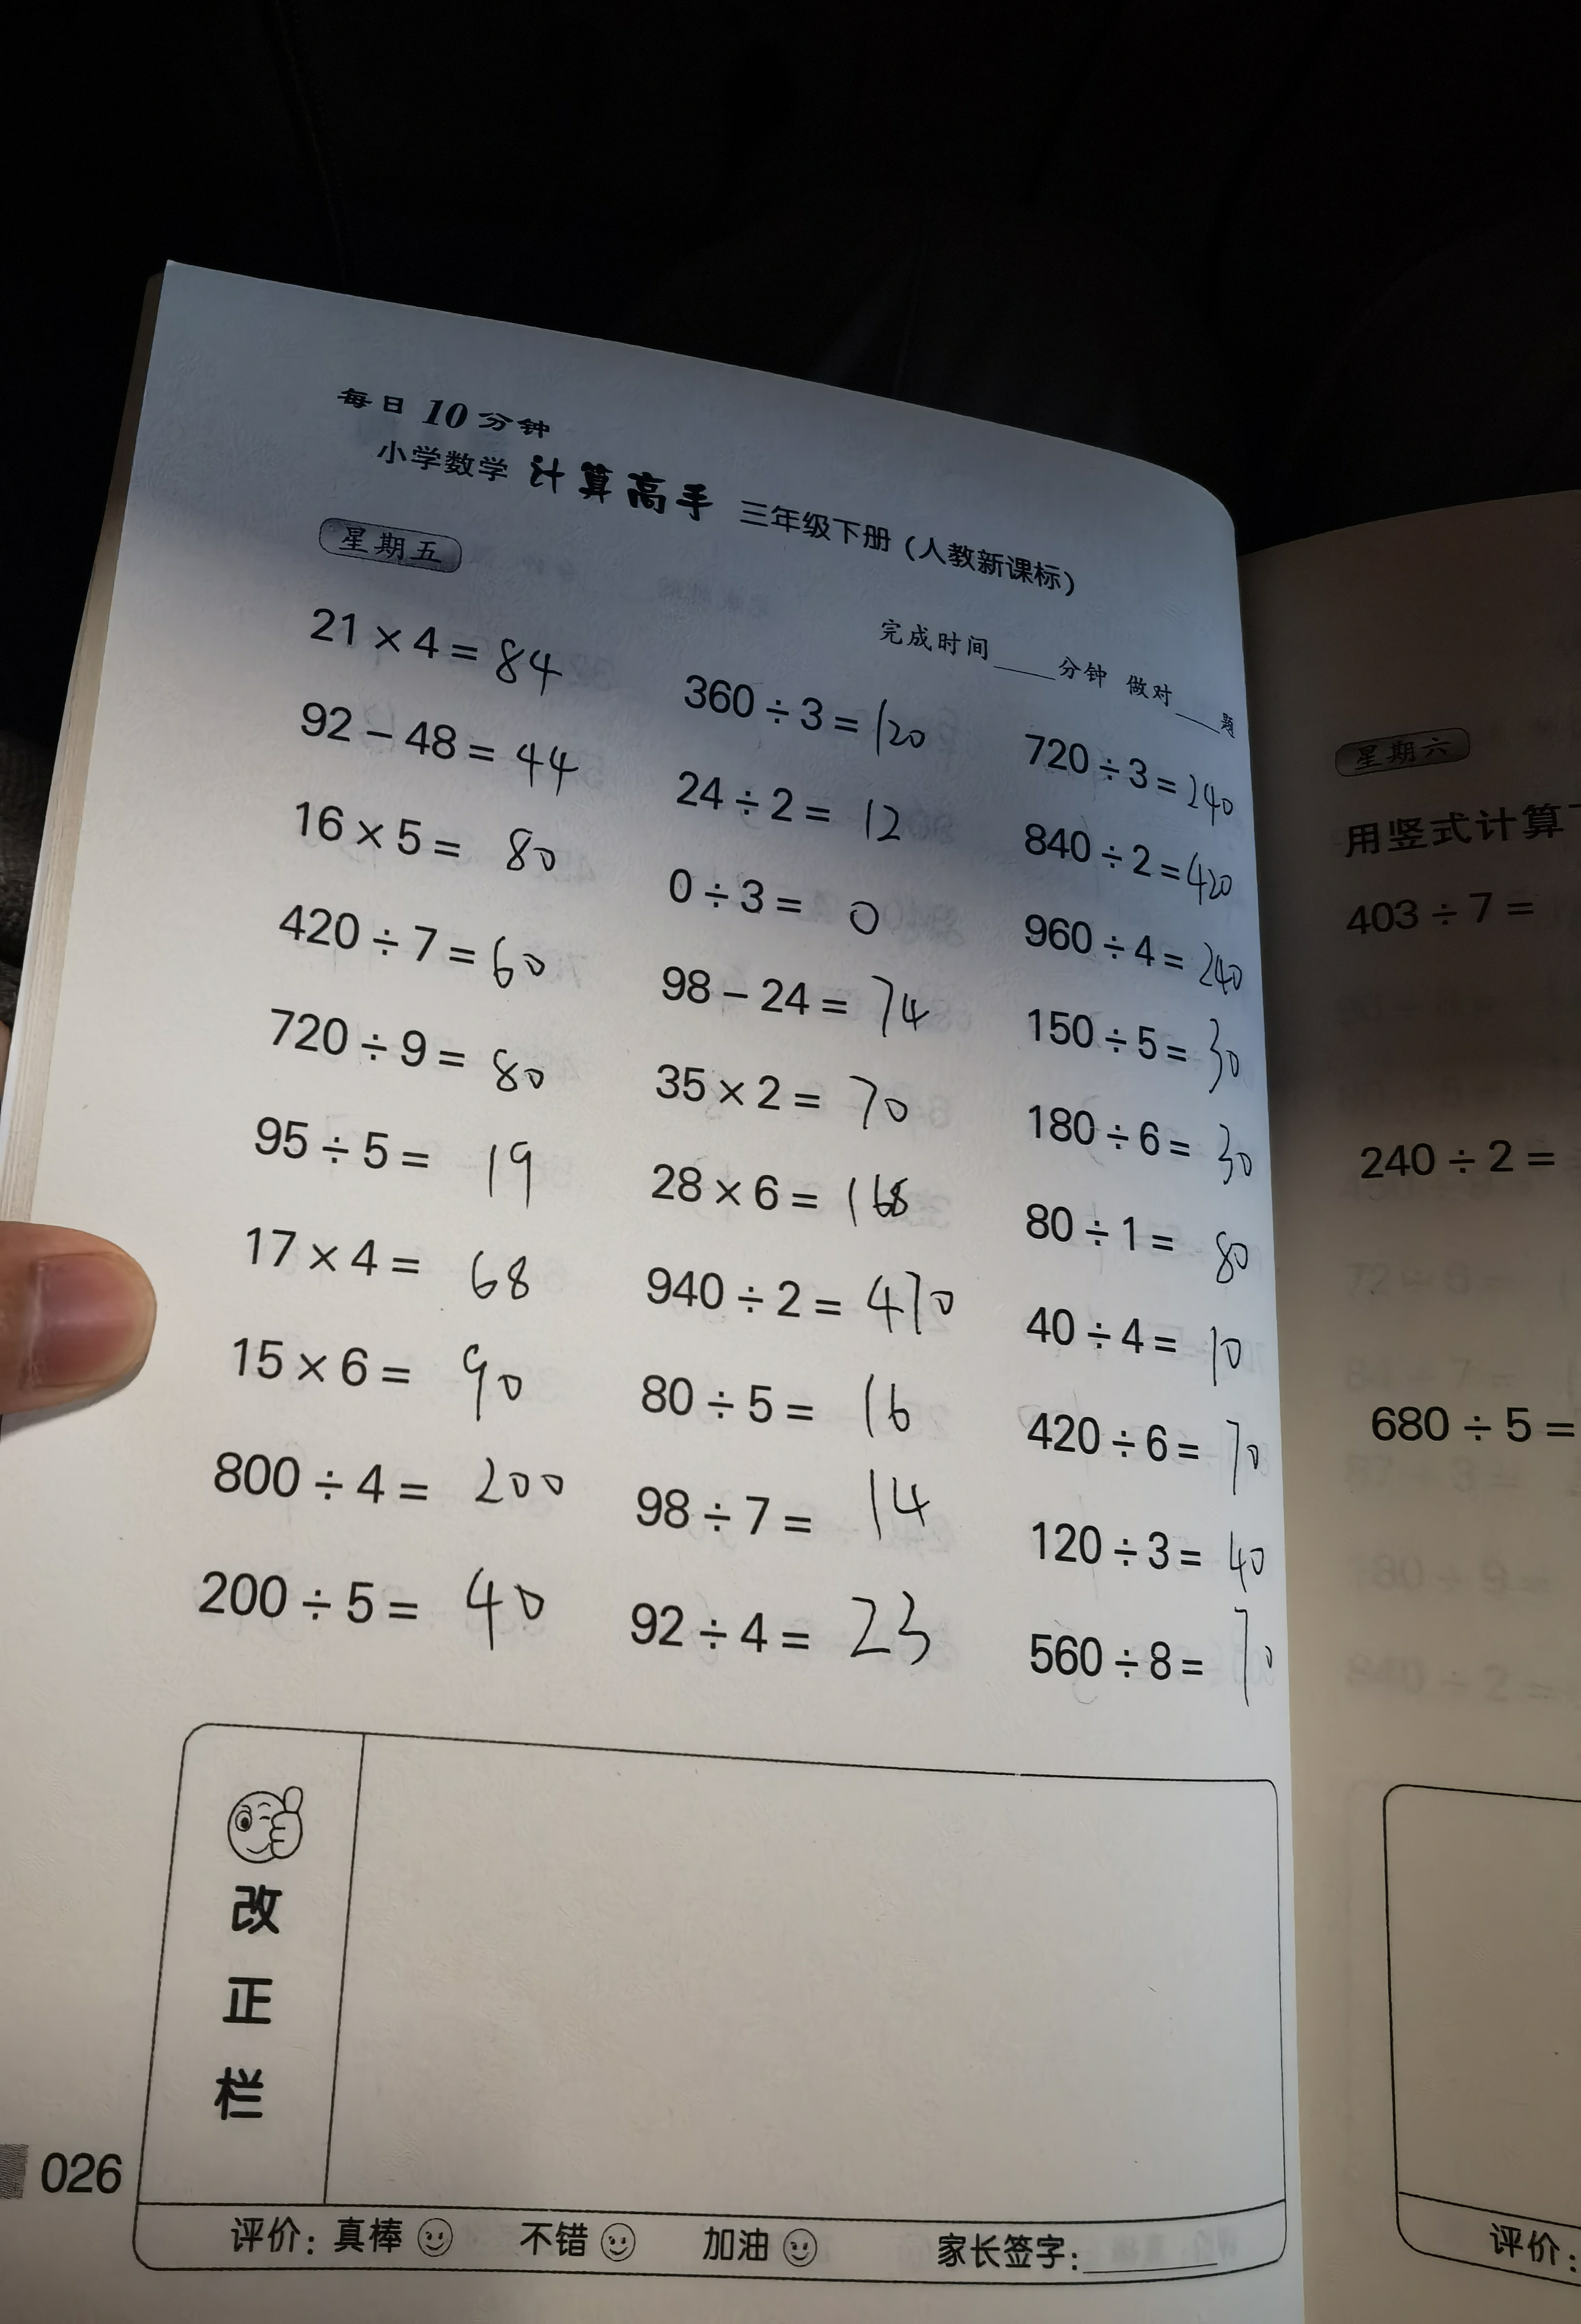equation: (605, 1574, 958, 1692), (164, 1556, 577, 1657), (185, 1442, 579, 1539), (298, 570, 573, 706), (621, 1458, 955, 1560), (268, 999, 558, 1115), (296, 693, 598, 805), (626, 1345, 958, 1445), (261, 1105, 558, 1216), (229, 1212, 551, 1313), (628, 1255, 983, 1345), (270, 787, 561, 895), (1006, 1505, 1295, 1609), (1004, 1606, 1288, 1710), (222, 1329, 531, 1422), (990, 1406, 1295, 1500), (642, 956, 946, 1043), (268, 898, 556, 988), (1002, 1193, 1269, 1290), (1006, 1295, 1263, 1394), (674, 764, 935, 861), (688, 665, 933, 764), (1008, 1098, 1265, 1188), (1025, 731, 1258, 829), (630, 1062, 919, 1142), (1022, 1001, 1256, 1096), (1016, 909, 1258, 999), (653, 866, 919, 946), (626, 1170, 919, 1241), (1029, 821, 1248, 907)
